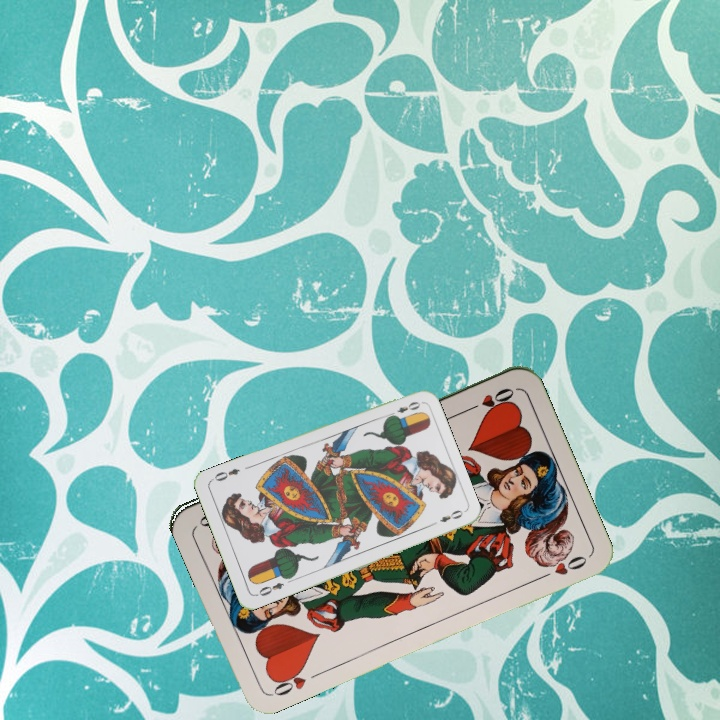EO: (384, 397, 423, 420), (252, 578, 286, 599)
HO: (461, 384, 517, 415), (267, 662, 309, 699)
